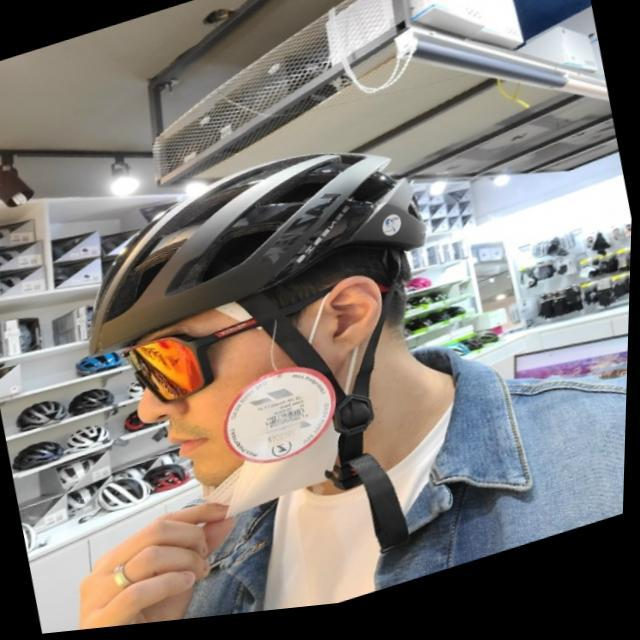Helmet: (77, 150, 434, 512)
